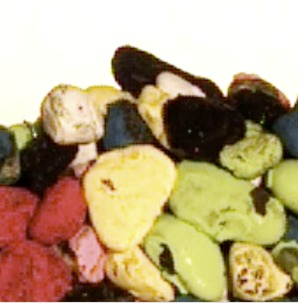black: (108, 45, 224, 109), (164, 95, 246, 162), (20, 136, 73, 196), (227, 91, 281, 134)
green: (168, 158, 282, 246), (141, 210, 226, 300), (219, 121, 283, 178)
pink: (223, 69, 291, 110), (70, 227, 106, 284)
red: (1, 241, 70, 303), (28, 177, 88, 245)
white: (41, 83, 106, 144), (155, 70, 206, 100), (70, 144, 96, 179)
yellow: (80, 145, 178, 253), (227, 245, 292, 302), (137, 84, 174, 148)
